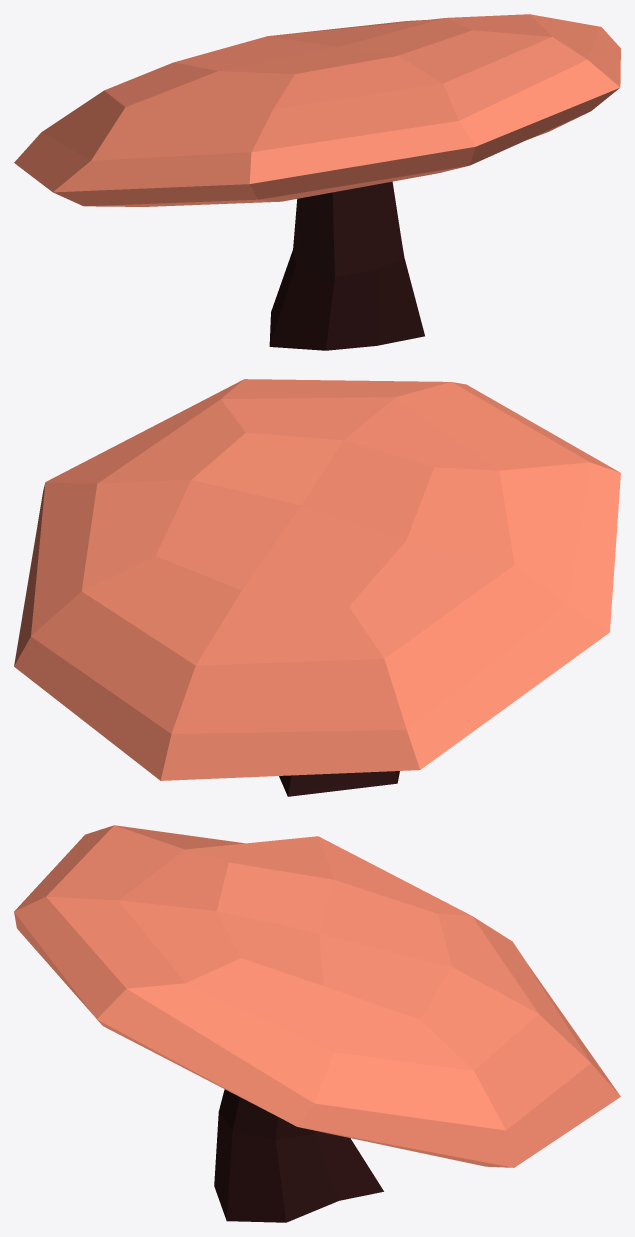
File: Mushroom2.fbx
3 renders of one model, top to bottom at view 1: azimuth 30°, elevation 25°; view 2: azimuth 150°, elevation 25°; view 3: azimuth 270°, elevation 25°, orthographic.
Parts seen in each view (by area): view 1: Mushroom2; view 2: Mushroom2; view 3: Mushroom2.
Part boxes in pixels (<box>): Mushroom2: <box>14,14,620,350</box>; Mushroom2: <box>14,379,620,796</box>; Mushroom2: <box>14,825,620,1222</box>.
Size of the model in its own units: 1748 by 894 by 1601.
